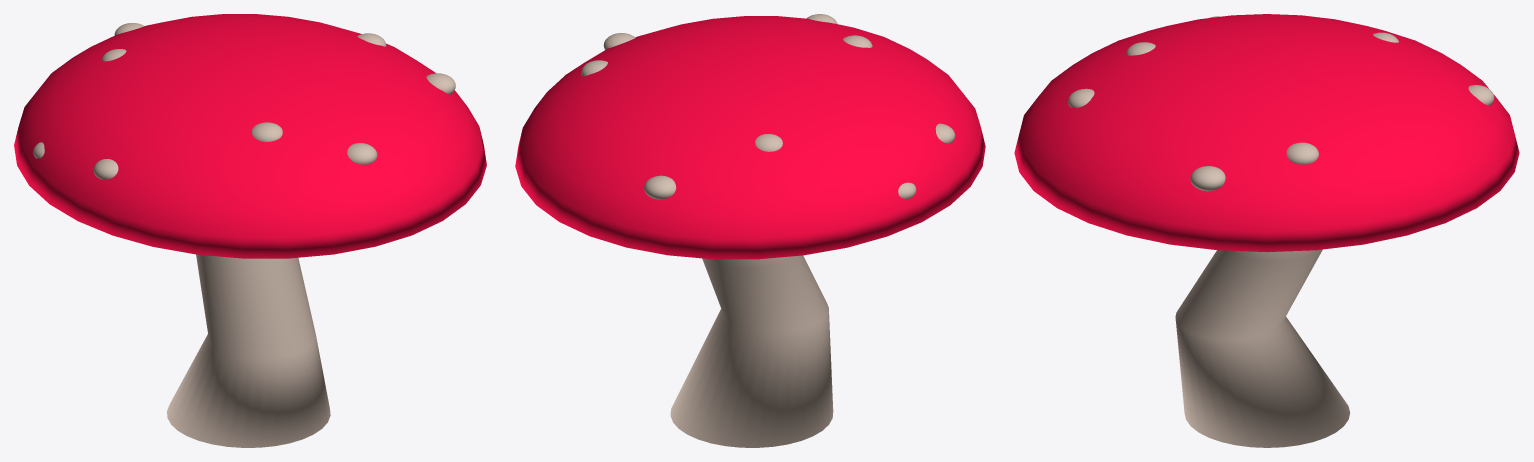
File: mush (1).fbx
The picture shows the model from 3 angles, left to right: view 1: azimuth 30°, elevation 25°; view 2: azimuth 150°, elevation 25°; view 3: azimuth 270°, elevation 25°; orthographic projection.
Parts seen in each view (by area): view 1: Sphere; view 2: Sphere; view 3: Sphere.
Part boxes in pixels (x1,y1,x2,y2): Sphere: [14, 14, 486, 447]; Sphere: [515, 14, 985, 447]; Sphere: [1014, 14, 1519, 447].
Size of the model in its own units: 997 by 840 by 1074.
